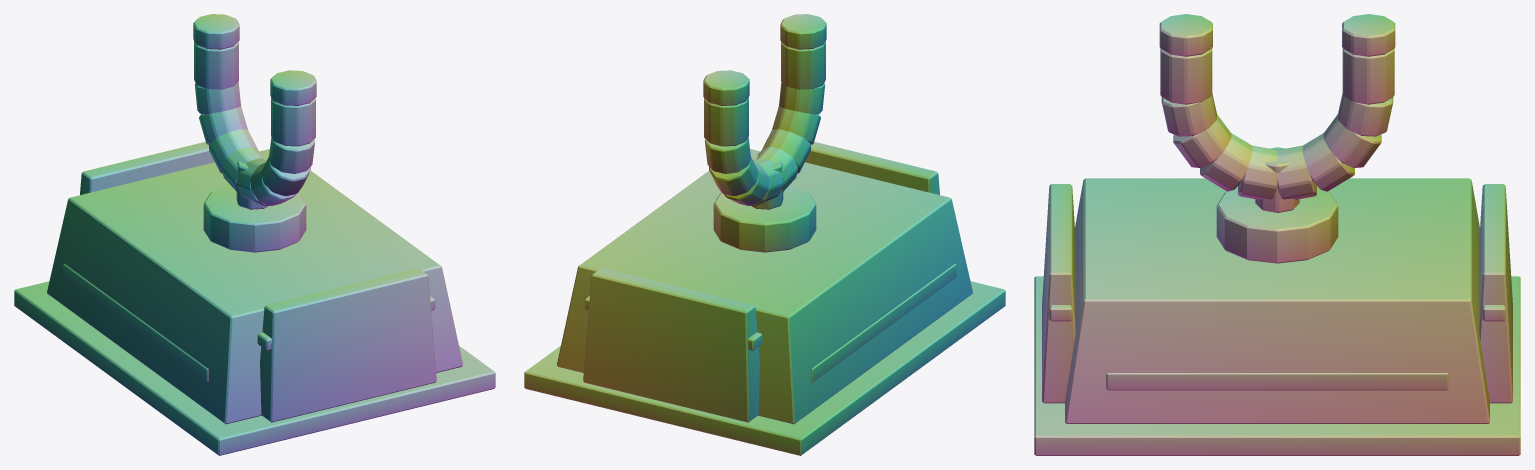
Rendered from module_magnet_rig.glb.
3 views of the same model, side by side, from view 1: azimuth 30°, elevation 25°; view 2: azimuth 150°, elevation 25°; view 3: azimuth 270°, elevation 25° (orthographic). The views are drawn at different scales.
Parts seen in each view (by area): view 1: body, spin_magnet; view 2: body, spin_magnet; view 3: body, spin_magnet.
Boxes of the visible parts, x1,y1,x2,y2 form: body: (14,142,495,455); spin_magnet: (193,14,316,209); body: (524,142,1005,455); spin_magnet: (703,14,826,209); body: (1034,178,1520,455); spin_magnet: (1159,14,1395,212).
Size of the model in its own units: 10 by 10.2 by 12.8.
